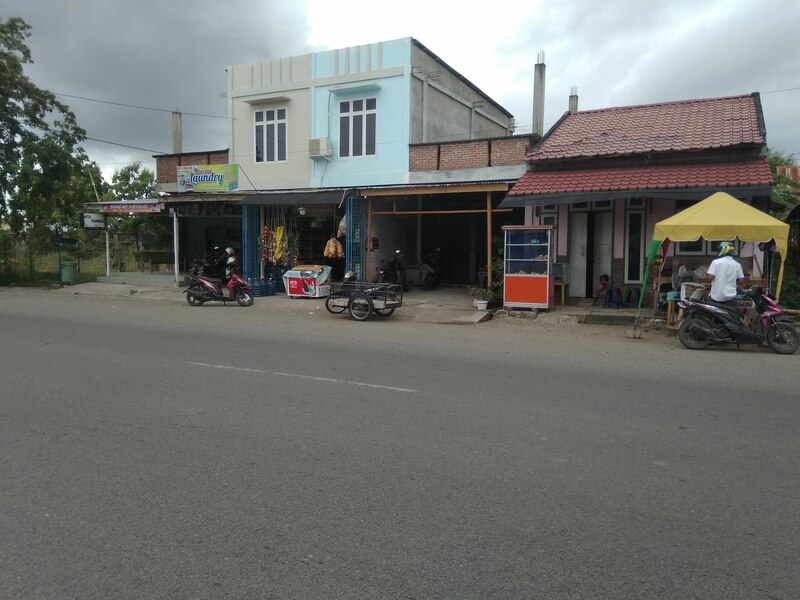becak barang: (322, 262, 410, 325)
